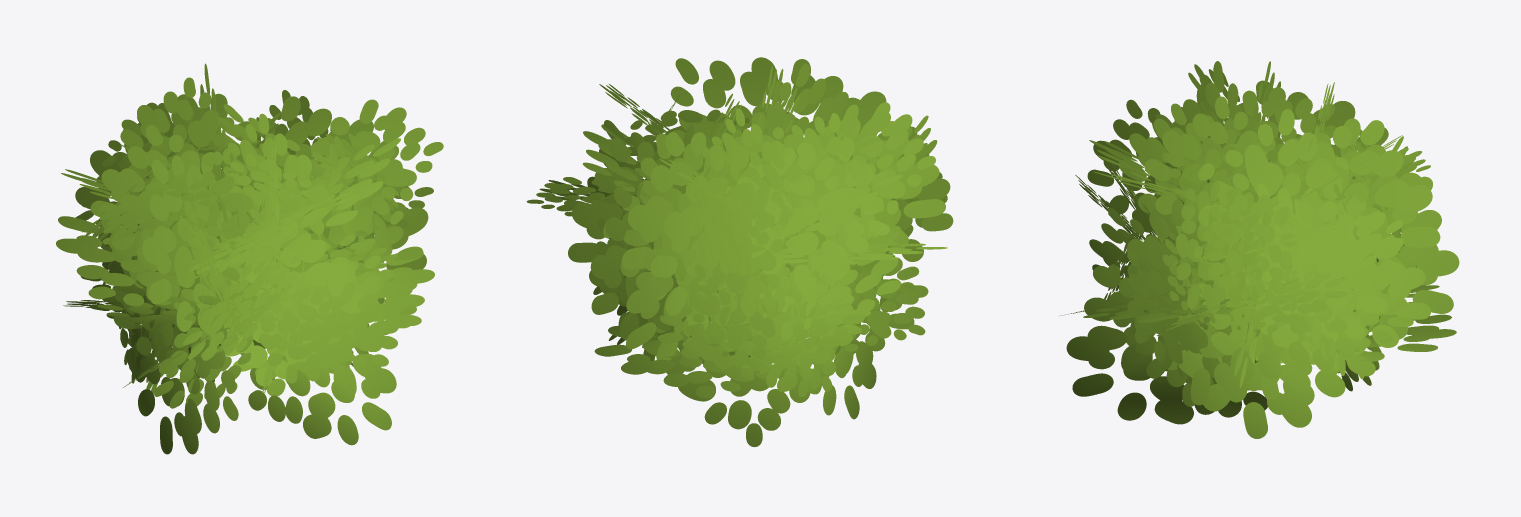
File: bush_common_far.gltf
3 views of the same model, side by side, from view 1: azimuth 30°, elevation 25°; view 2: azimuth 150°, elevation 25°; view 3: azimuth 270°, elevation 25° (orthographic).
Parts seen in each view (by area): view 1: bush_common_far; view 2: bush_common_far; view 3: bush_common_far.
Part boxes in pixels (x1,y1,x2,y2): bush_common_far: [56, 63, 443, 454]; bush_common_far: [526, 57, 953, 447]; bush_common_far: [1060, 61, 1459, 438].
Bounding box in the file's own units: 1.14 × 1.03 × 1.07.
Materials: 1 (1 with a texture image).
